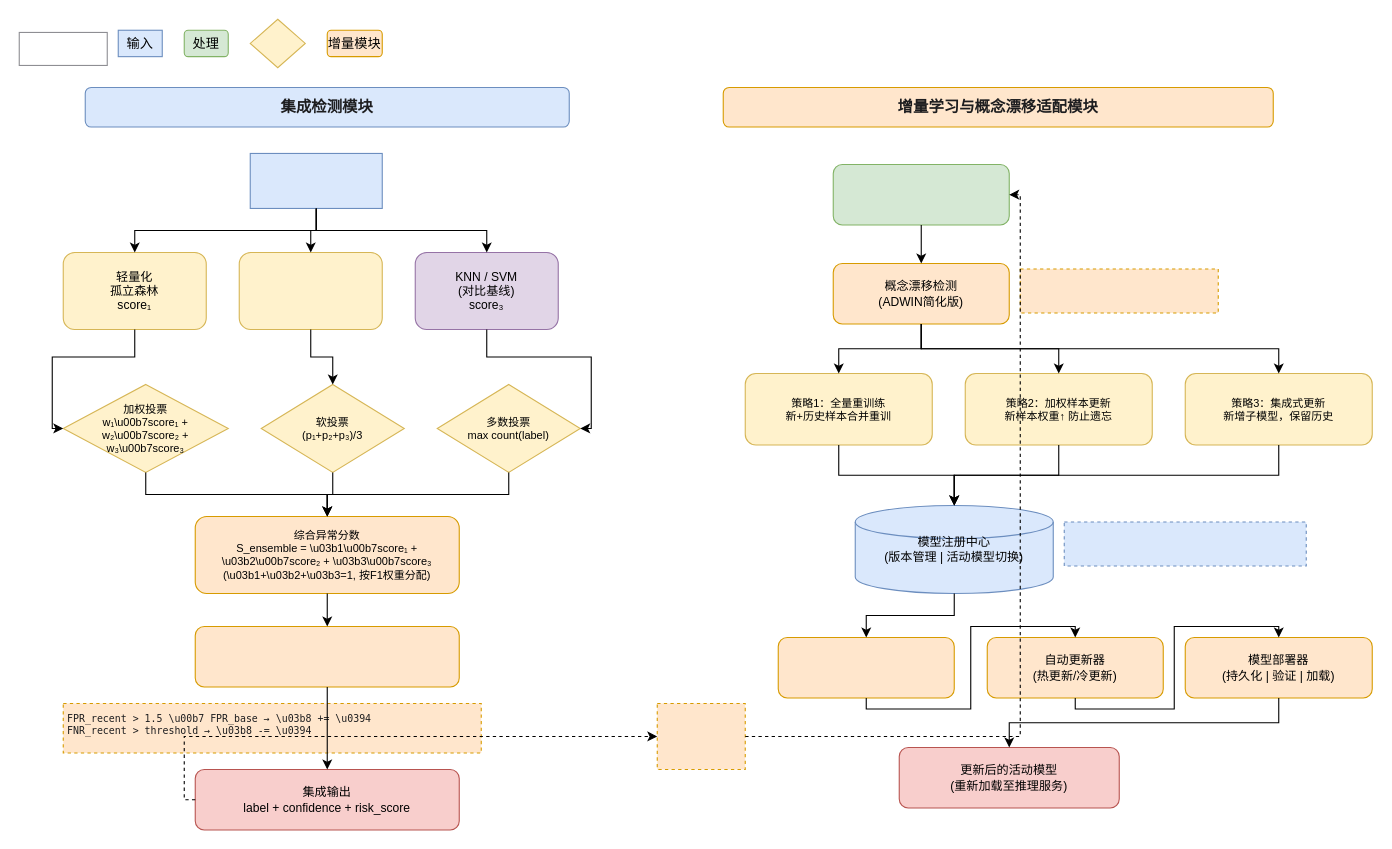
Image size: 1392x849. Some labels were removed from this diagram. The centre of each missing label's shape, as x and y in pixels:
"|acc_window - acc_global| > \u03b5 ? 触发漂移告警" belongs at [1118,290].
"反馈： 性能下降时 触发更新" belongs at [700,735].
"图例" belongs at [62,48].
"性能监控器 (时延/内存/异常率)" belongs at [865,667].
"支持多版本并存 通过软链接指向活动模型" belongs at [1184,543].
"样本 x (14维特征)" belongs at [315,180].
"滑动数据窗口 (W=500条)" belongs at [920,194].
"策略" belongs at [277,43].
"自适应阈值调整" belongs at [326,656].
"轻量化 自编码器 score₂" belongs at [310,290].
